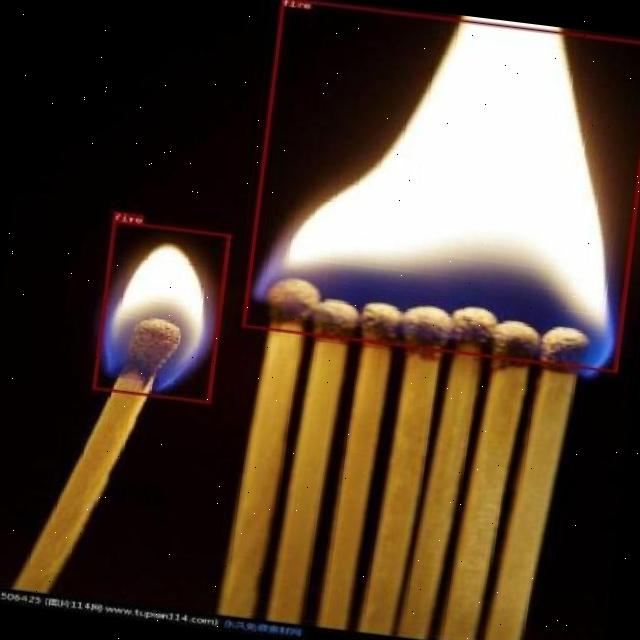fire: (240, 0, 640, 372), (91, 219, 230, 403)
